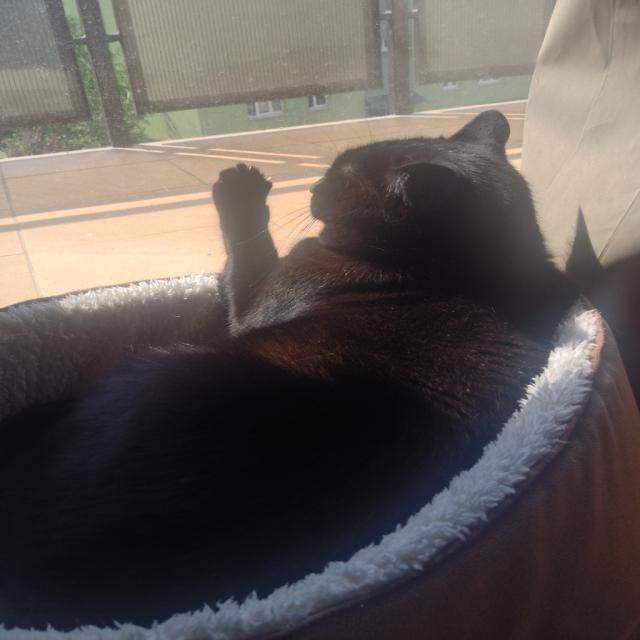Cat: (0, 102, 572, 627)
